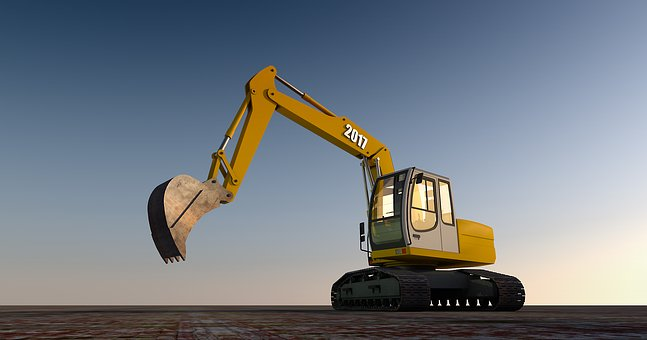excavator: (146, 60, 526, 316)
